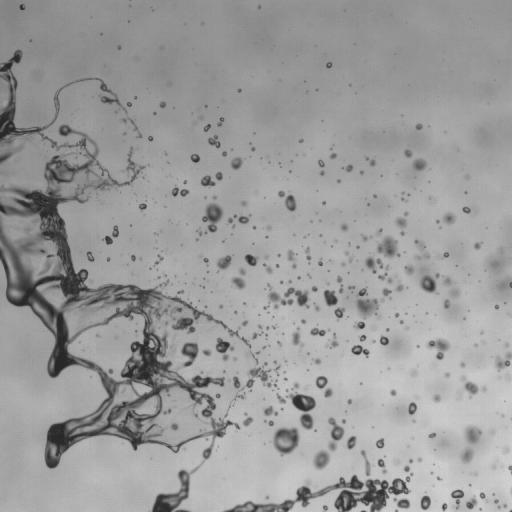droplet: (264, 284, 309, 309), (354, 287, 380, 329), (272, 427, 299, 455), (376, 236, 400, 258), (485, 248, 506, 273), (426, 338, 449, 359), (215, 337, 234, 361), (420, 273, 440, 294), (461, 376, 479, 397), (315, 376, 332, 397), (495, 352, 511, 371), (414, 239, 429, 259), (231, 268, 245, 289), (465, 425, 481, 443), (323, 289, 337, 306), (451, 489, 463, 508), (217, 255, 231, 269), (460, 448, 473, 462), (171, 186, 189, 196), (246, 350, 259, 363), (412, 158, 426, 170), (244, 254, 258, 266), (420, 494, 430, 510), (201, 175, 215, 186), (327, 334, 338, 348), (466, 495, 477, 509), (263, 405, 278, 415), (208, 135, 220, 147), (443, 212, 455, 224), (310, 327, 326, 336), (231, 157, 242, 169), (395, 217, 406, 229), (334, 307, 345, 319), (346, 436, 356, 449), (243, 414, 253, 426), (408, 402, 417, 414), (273, 361, 280, 374), (450, 288, 460, 297), (404, 265, 413, 274), (202, 348, 212, 356), (190, 154, 199, 162), (443, 276, 451, 285), (380, 336, 388, 345), (87, 251, 94, 261), (376, 438, 383, 448), (404, 149, 412, 157), (382, 288, 390, 296), (479, 492, 487, 500), (344, 165, 352, 172), (215, 172, 222, 180), (462, 206, 470, 213), (203, 124, 210, 131), (139, 203, 146, 210), (474, 242, 481, 249), (396, 284, 403, 291), (252, 332, 259, 339), (433, 395, 440, 402), (444, 299, 449, 308), (318, 160, 324, 167), (341, 224, 347, 231), (359, 335, 366, 341), (313, 358, 320, 364), (314, 303, 319, 311), (442, 503, 447, 511), (416, 123, 422, 129), (376, 229, 382, 235), (361, 235, 367, 241), (390, 389, 396, 395), (267, 420, 273, 426), (503, 447, 509, 453), (203, 258, 208, 265), (326, 62, 331, 68), (330, 153, 336, 158), (311, 286, 317, 291), (242, 320, 247, 326), (429, 433, 435, 438), (322, 505, 327, 511), (19, 4, 24, 9), (160, 102, 165, 107), (412, 370, 416, 376), (137, 132, 141, 137), (148, 136, 153, 140), (222, 151, 226, 156), (241, 201, 246, 205), (131, 255, 135, 260), (318, 260, 322, 265), (460, 362, 464, 367), (445, 372, 449, 377), (481, 387, 486, 391), (127, 102, 131, 106), (320, 171, 324, 175), (400, 231, 404, 235), (380, 298, 384, 302), (277, 341, 281, 345), (232, 356, 236, 360), (347, 399, 351, 403), (494, 499, 498, 503), (349, 257, 352, 262), (349, 286, 354, 289), (0, 187, 4, 190), (301, 320, 305, 323), (258, 325, 262, 328), (417, 458, 421, 461), (502, 504, 506, 507), (117, 46, 120, 49), (238, 89, 241, 92), (251, 147, 254, 150), (360, 171, 363, 174), (183, 180, 186, 183), (213, 196, 216, 199), (402, 198, 405, 201), (404, 212, 407, 215), (345, 251, 348, 254), (341, 263, 344, 266), (219, 305, 222, 308), (495, 305, 498, 308), (395, 313, 398, 316), (400, 320, 403, 323), (272, 325, 275, 328), (373, 327, 376, 330), (505, 343, 508, 346), (342, 419, 345, 422), (409, 459, 412, 462), (492, 465, 495, 468), (473, 472, 476, 475), (437, 477, 440, 480), (300, 139, 302, 142), (337, 180, 340, 182), (268, 226, 270, 229), (356, 246, 359, 248), (277, 254, 280, 256), (308, 274, 310, 277), (234, 311, 237, 313), (506, 375, 509, 377), (284, 377, 286, 380), (266, 496, 268, 499), (70, 152, 72, 154), (467, 176, 469, 178), (373, 195, 375, 197), (436, 220, 438, 222), (233, 225, 235, 227), (253, 227, 255, 229), (265, 255, 267, 257), (107, 258, 109, 260), (280, 281, 282, 283), (243, 302, 245, 304), (264, 363, 266, 365), (458, 393, 460, 395), (183, 407, 185, 409), (491, 431, 493, 433), (509, 509, 511, 511)
ligament: (0, 50, 249, 511), (222, 450, 413, 511), (276, 382, 315, 429), (313, 417, 344, 469), (231, 366, 277, 390), (99, 79, 126, 112), (197, 203, 223, 235), (365, 256, 392, 283), (278, 190, 296, 211), (103, 225, 118, 244), (122, 117, 138, 131), (292, 327, 303, 347), (351, 345, 369, 357), (287, 250, 296, 268), (228, 215, 248, 223), (377, 459, 387, 473), (337, 276, 343, 293), (263, 263, 273, 273), (154, 254, 163, 265), (366, 157, 375, 166), (305, 247, 310, 262), (234, 393, 245, 399), (438, 252, 448, 258), (217, 117, 223, 126), (227, 401, 233, 409), (77, 78, 85, 81), (508, 279, 511, 287), (508, 465, 511, 473), (510, 488, 511, 493), (394, 510, 398, 511)
